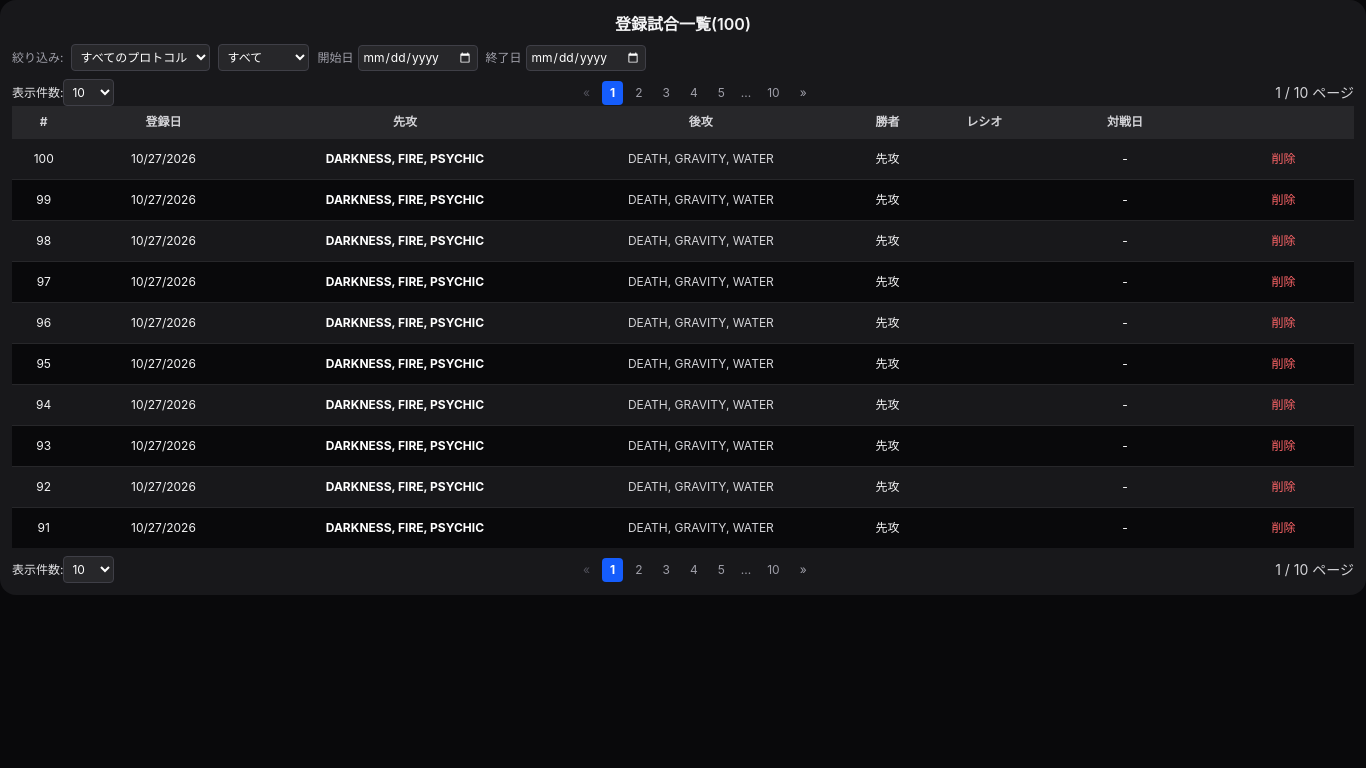
it: MatchList › pagination – pageNumbers generation › pageNumbers[last] === totalPages-1 のとき末尾 ... は表示しない
Step 1. Click the 1st button "5" → (721, 92), box x1=710 y1=80 x2=733 y2=104
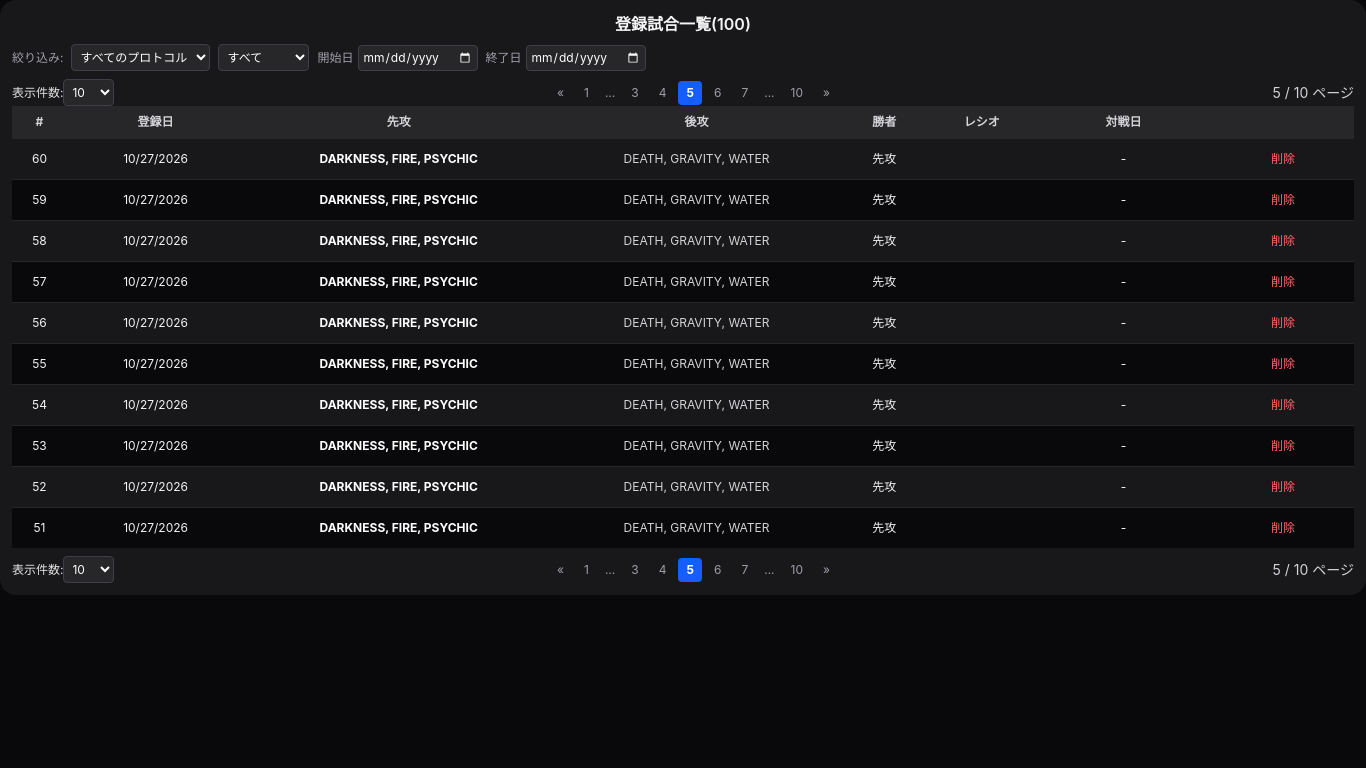
Step 2. Click the 1st button "7" → (745, 92), box x1=733 y1=80 x2=756 y2=104
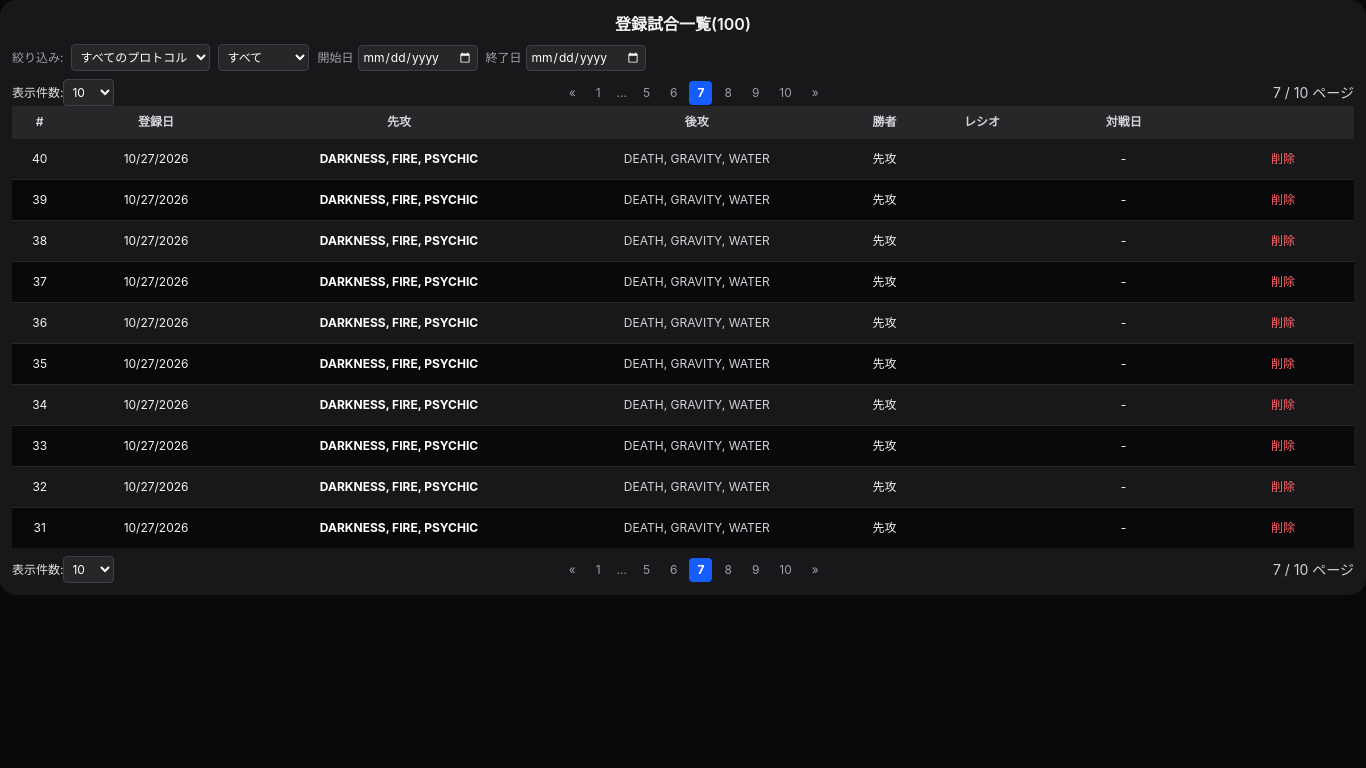
Now the number of buttons "10" is 2, box x1=771 y1=80 x2=800 y2=104; x1=771 y1=558 x2=800 y2=582
Now the text "..." is shown 2 times, box x1=616 y1=84 x2=627 y2=100; x1=616 y1=562 x2=627 y2=576
